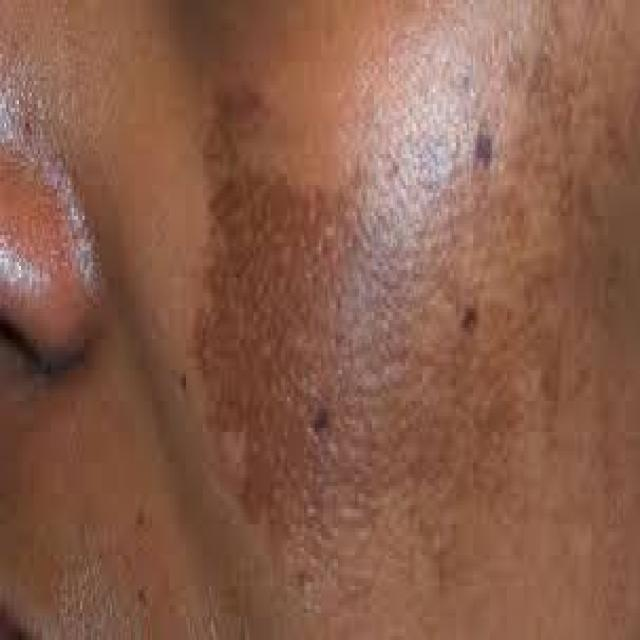pigmentation: (189, 84, 422, 494)
